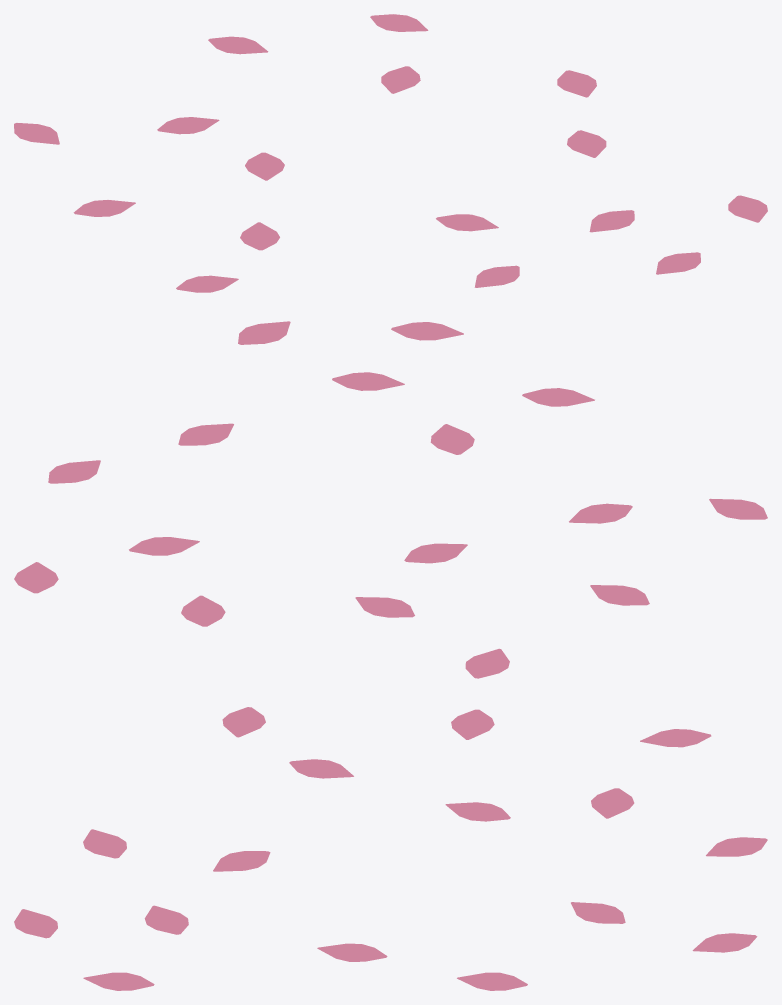
File: flowerpetals.fbx
3 views of the same model, one above another, from view 1: azimuth 30°, elevation 25°; view 2: azimuth 150°, elevation 25°; view 3: azimuth 270°, elevation 25° (orthographic). The views are drawn at different scales.
Visible parts, largest first — view 1: Plane.003; view 2: Plane.003; view 3: Plane.003.
Boxes of the visible parts, <box> form: Plane.003: <box>14,14,767,292</box>; Plane.003: <box>14,321,767,678</box>; Plane.003: <box>14,707,767,990</box>.
Size of the model in its own units: 1273 by 27.04 by 1436.
